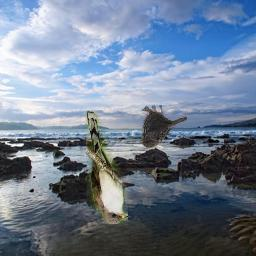Cuckoo: (86, 112, 128, 225)
Sparrow: (139, 105, 187, 149)
